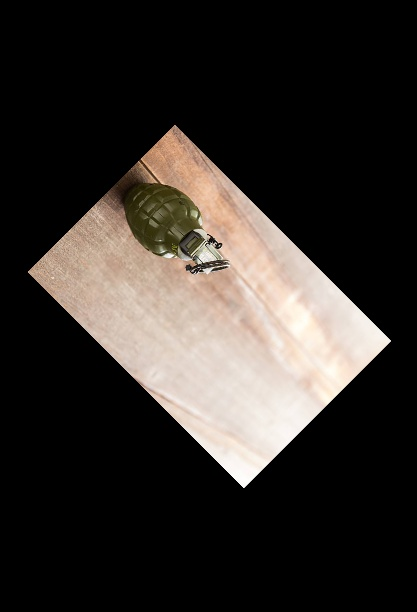e1: (113, 178, 232, 282)
